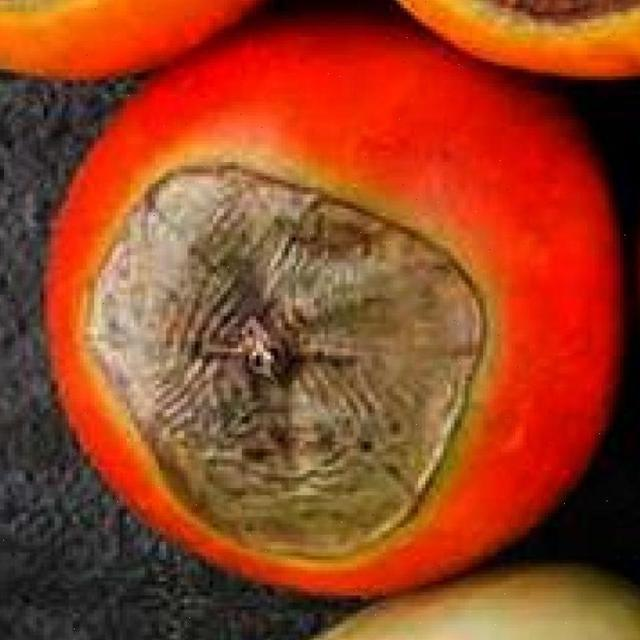Blossom End Rot Fruit: (124, 11, 365, 280)
